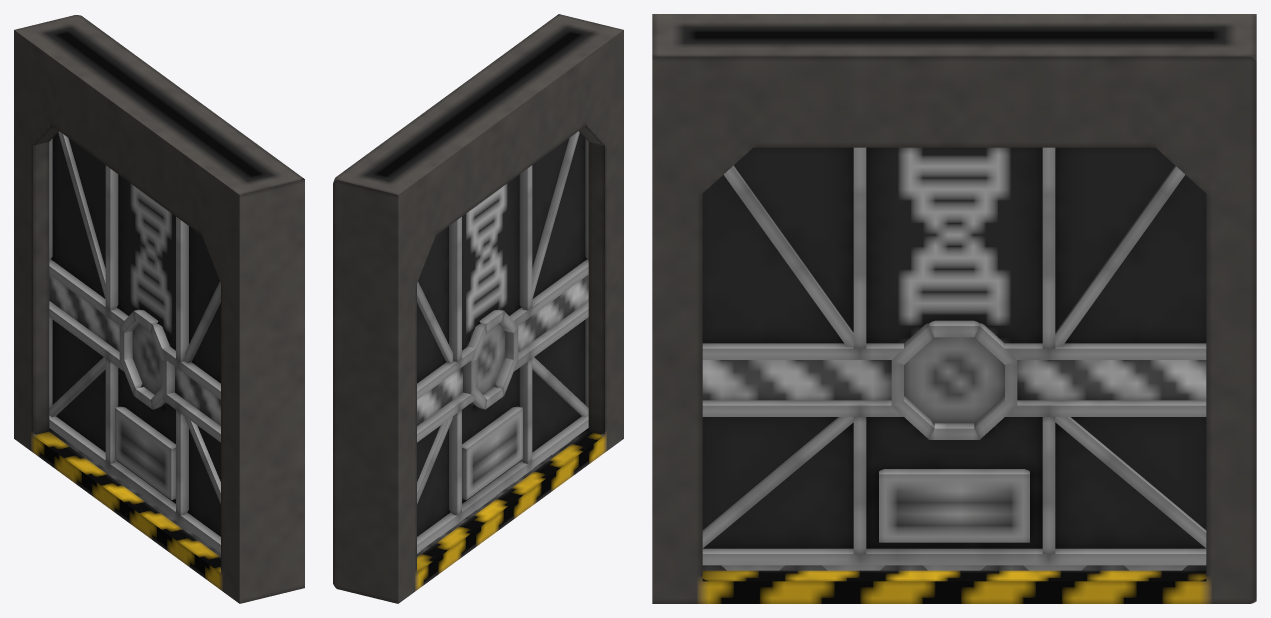
Rendered from qe_containment_2.obj.
The picture shows the model from 3 angles, left to right: view 1: azimuth 30°, elevation 25°; view 2: azimuth 150°, elevation 25°; view 3: azimuth 270°, elevation 25°; orthographic projection. The views are drawn at different scales.
Visible parts, largest first — view 1: Frame, Door; view 2: Frame, Door; view 3: Door, Frame.
Part boxes in pixels (left/top/right/bottom): Frame: left=14, top=15, right=304, bottom=603; Door: left=49, top=131, right=220, bottom=553; Frame: left=333, top=14, right=623, bottom=603; Door: left=417, top=131, right=588, bottom=553; Door: left=702, top=147, right=1206, bottom=570; Frame: left=652, top=14, right=1256, bottom=603.
Size of the model in its own units: 0.5 by 3 by 3.
